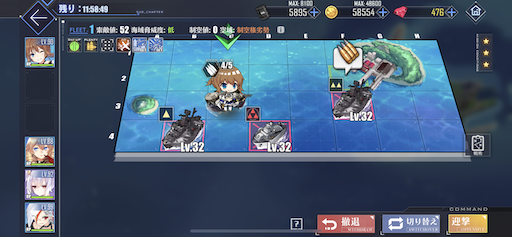lv1: (158, 106, 205, 151)
lv2: (330, 79, 373, 121)
lv3: (245, 105, 292, 153)
